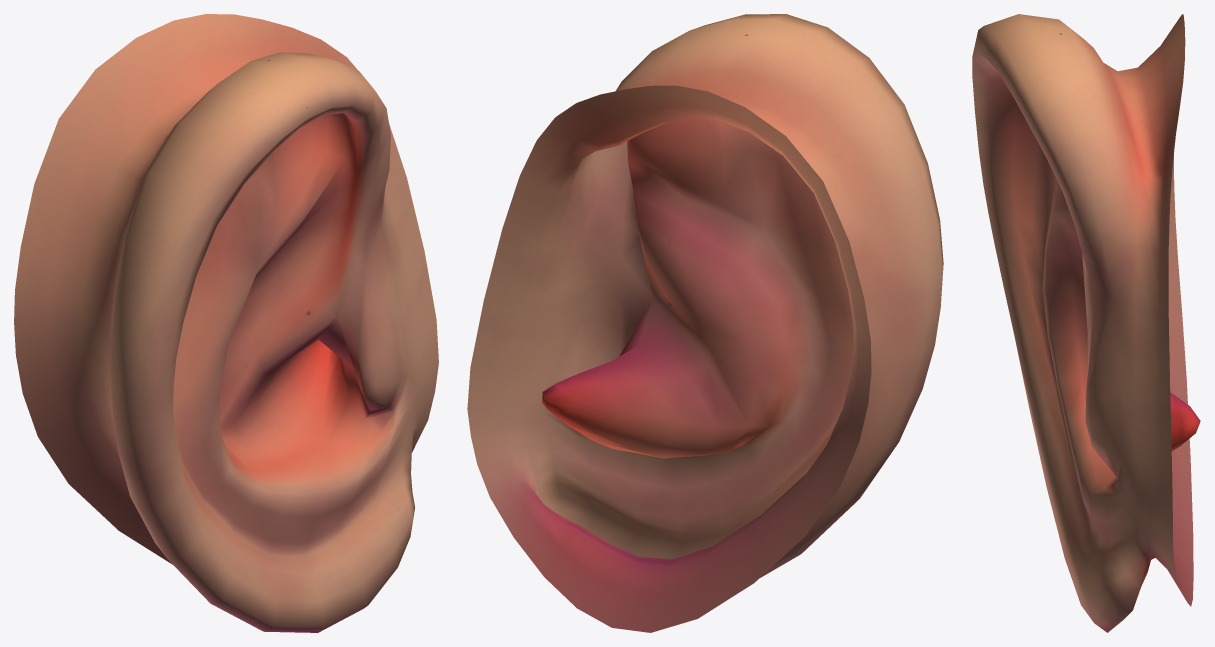
File: ear_model.glb
3 renders of one model, left to right at view 1: azimuth 30°, elevation 25°; view 2: azimuth 150°, elevation 25°; view 3: azimuth 270°, elevation 25°, orthographic. The views are drawn at different scales.
Visible parts, largest first — view 1: Ear; view 2: Ear; view 3: Ear.
Part boxes in pixels (x1=…): Ear: x1=14, y1=14, x2=438, y2=632; Ear: x1=467, y1=14, x2=943, y2=632; Ear: x1=972, y1=14, x2=1200, y2=632.
Bounding box in the file's own units: 9.99 × 13.7 × 5.09.
Materials: 1 (1 with a texture image).
